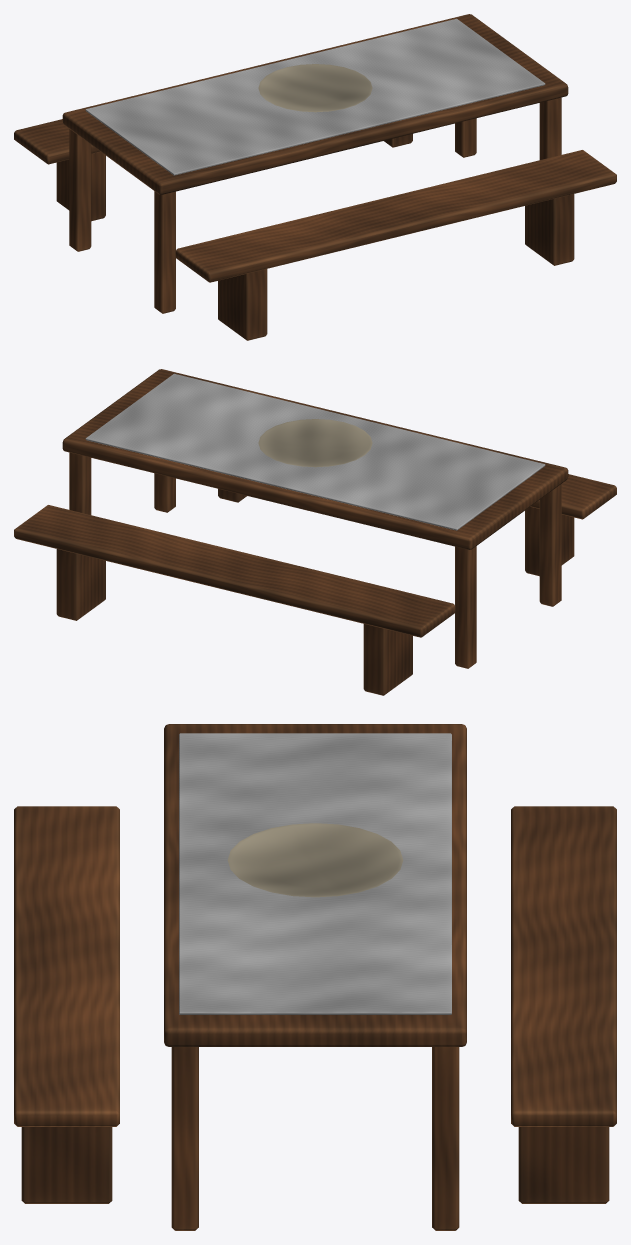
Rendered from Furn_Cook_DiningTable.fbx.
The picture shows the model from 3 angles, top to bottom: view 1: azimuth 30°, elevation 25°; view 2: azimuth 150°, elevation 25°; view 3: azimuth 270°, elevation 25°; orthographic projection. The views are drawn at different scales.
Parts seen in each view (by area): view 1: Furn_Cook_DiningTable; view 2: Furn_Cook_DiningTable; view 3: Furn_Cook_DiningTable.
Part boxes in pixels (box(x1,y1,x2,y2)): Furn_Cook_DiningTable: box(14, 14, 616, 340); Furn_Cook_DiningTable: box(14, 369, 616, 695); Furn_Cook_DiningTable: box(14, 724, 616, 1230).
Bounding box in the file's own units: 2.4 × 0.807 × 1.99.
3 materials, 3 textured.
